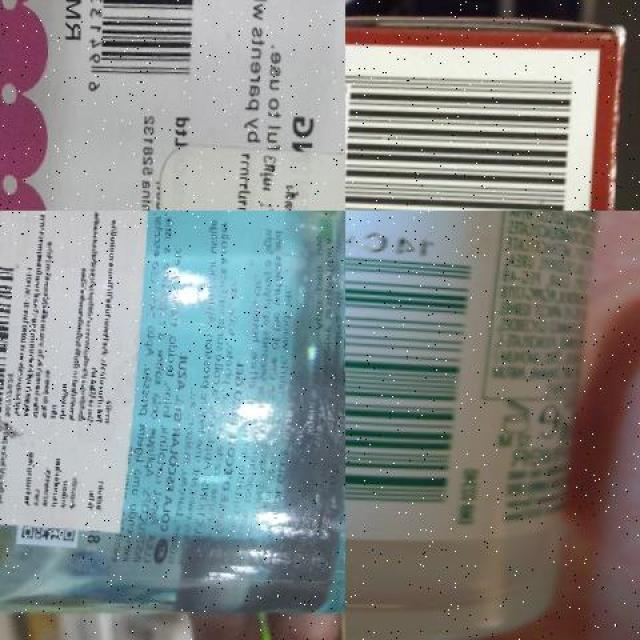Barcode: (345, 219, 487, 525), (345, 45, 596, 211), (84, 0, 220, 104), (0, 246, 21, 433)
